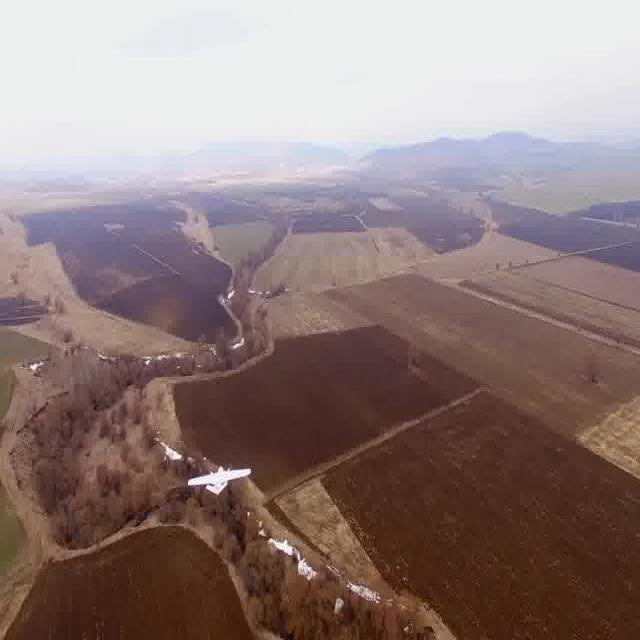iha: (217, 457, 223, 501)
